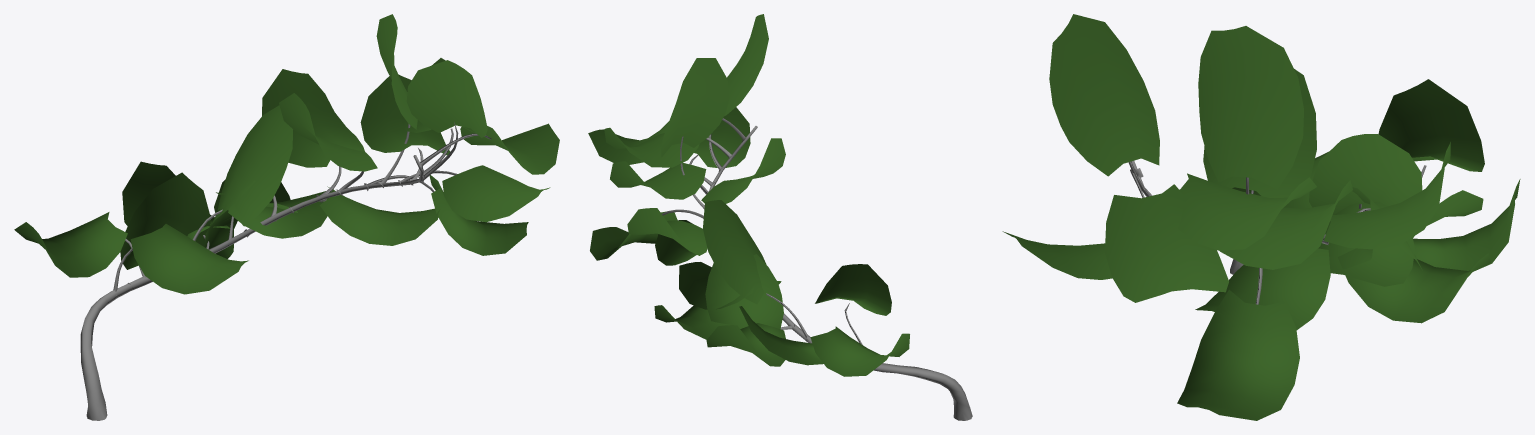
Rendered from SM_plant_tropical_large_03.fbx.
3 views of the same model, side by side, from view 1: azimuth 30°, elevation 25°; view 2: azimuth 150°, elevation 25°; view 3: azimuth 270°, elevation 25° (orthographic). The views are drawn at different scales.
Parts seen in each view (by area): view 1: tree012; view 2: tree012; view 3: tree012.
Boxes of the visible parts, <box> form: tree012: <box>14,14,559,420</box>; tree012: <box>588,14,972,420</box>; tree012: <box>1002,14,1520,420</box>.
Bounding box in the file's own units: 89.7 × 64.26 × 68.21.
